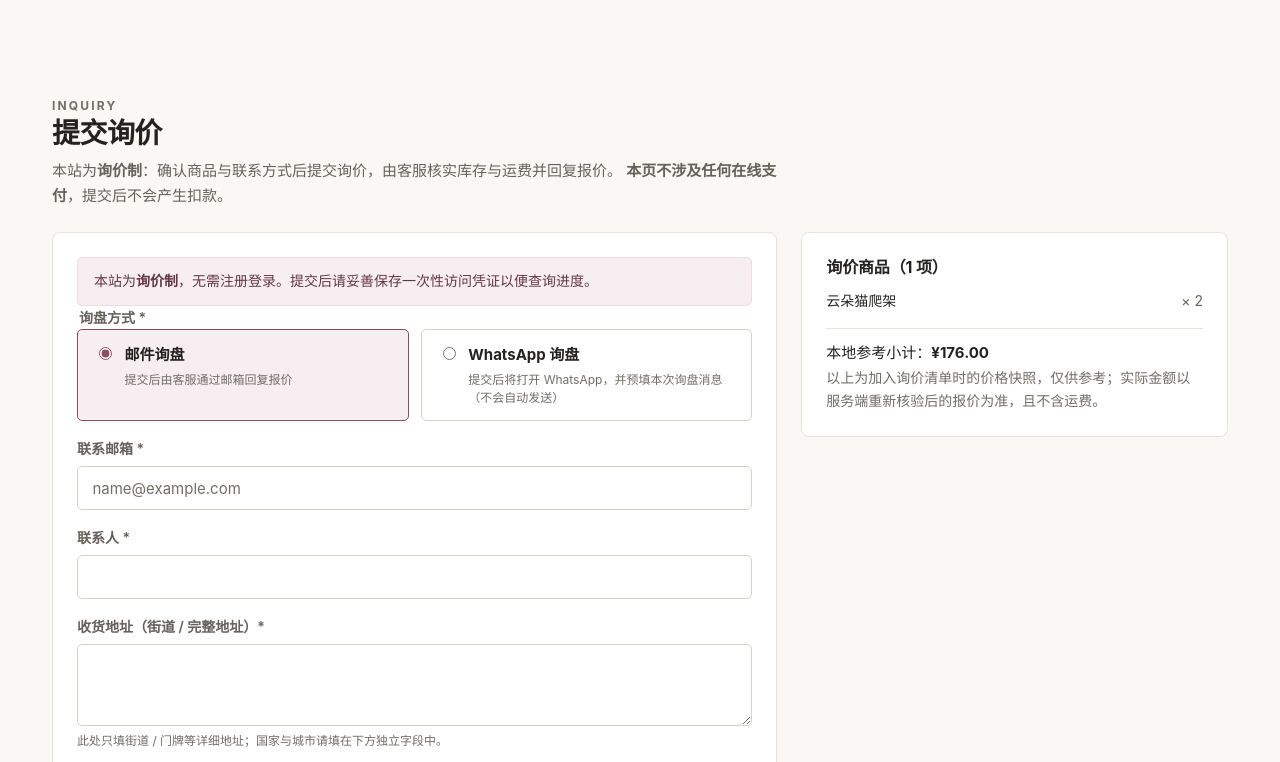
Test: CheckoutPage · G6-2.9（提交失败恢复 / 结果未知区分 / 刷新重进） › 明确失败（500）：提示「确定失败」而非「结果未知」，且购物车与地址全部保留
The image size is (1280, 762).
In the field with id "checkout-email": (415, 488) [77,466,752,510], type "guest@example.com"
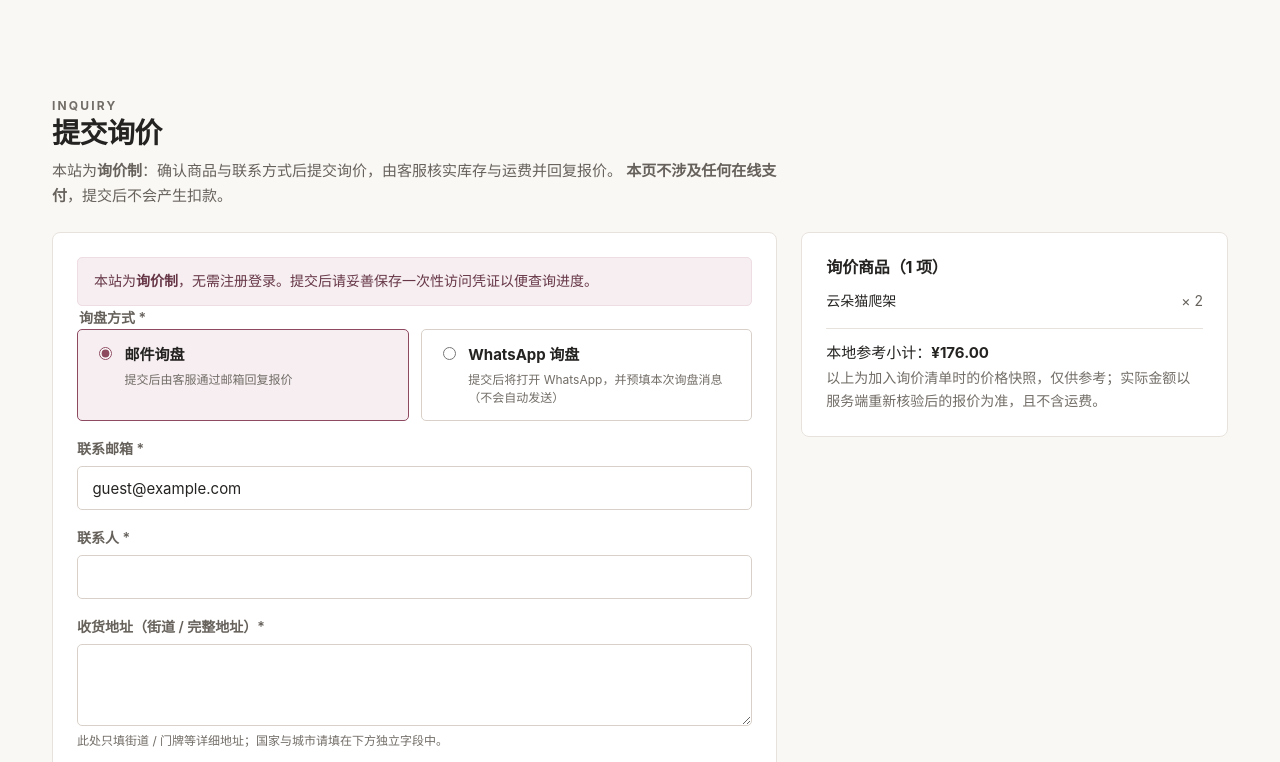
In the field with id "checkout-name": (415, 577) [77,555,752,599], type "张三"
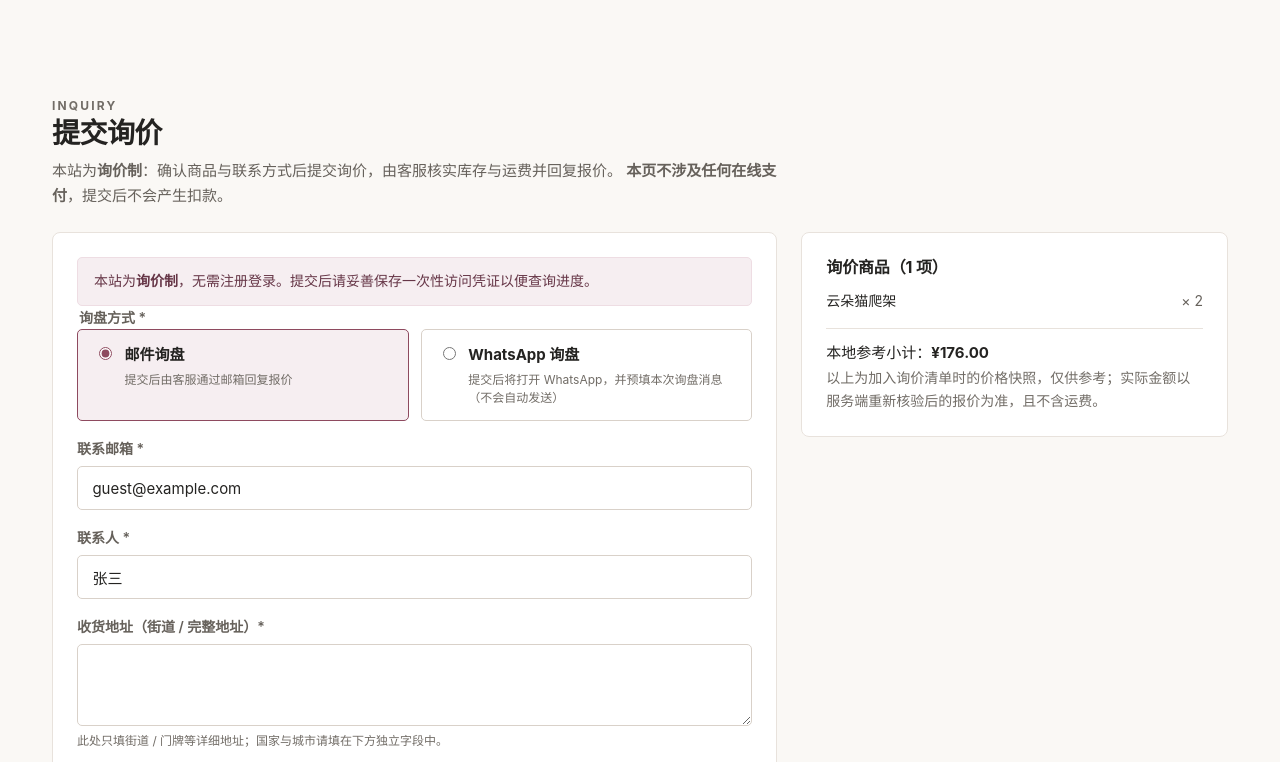
In the text box with id "checkout-address": (415, 685) [77,644,752,726], type "123 Pet Street, Springfield, IL 62704"
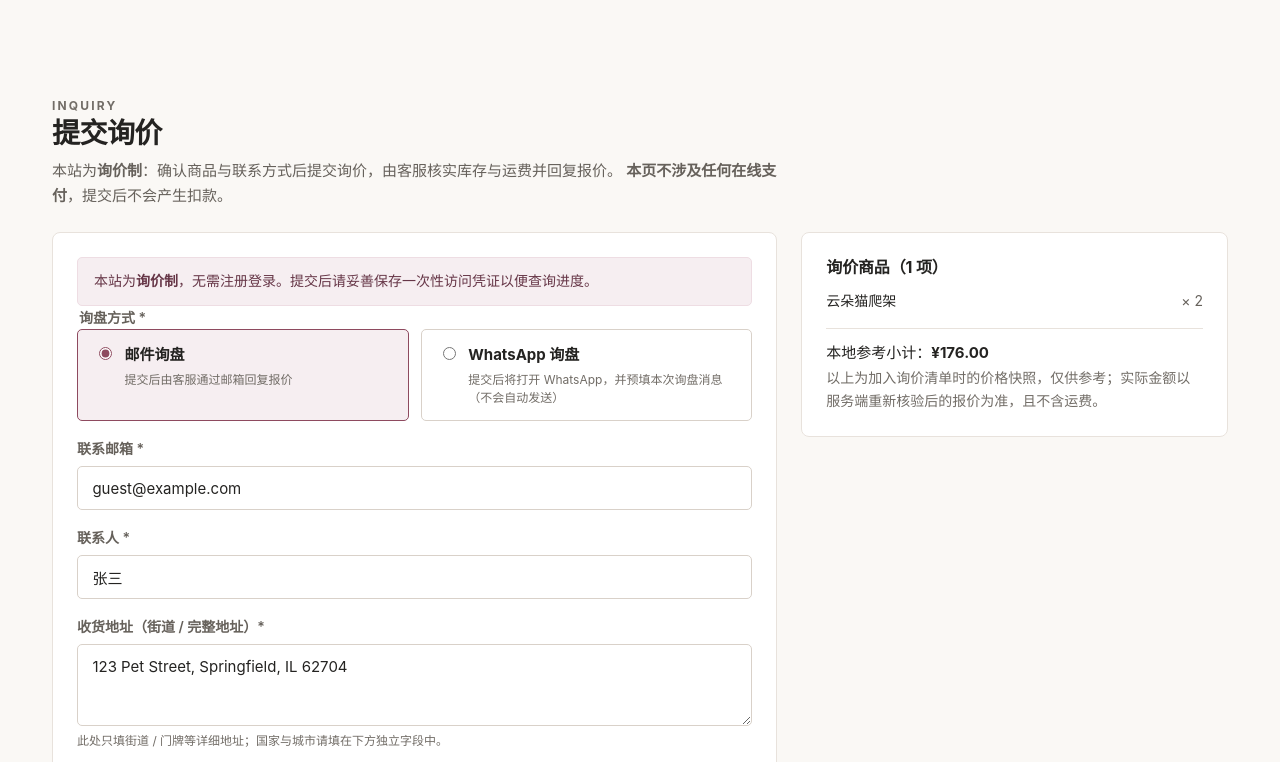
Replace the text in the text box with id "checkout-address" with "北京市朝阳区望京 SOHO T1 2001": (415, 685) [77,644,752,726]
(page scrolled)
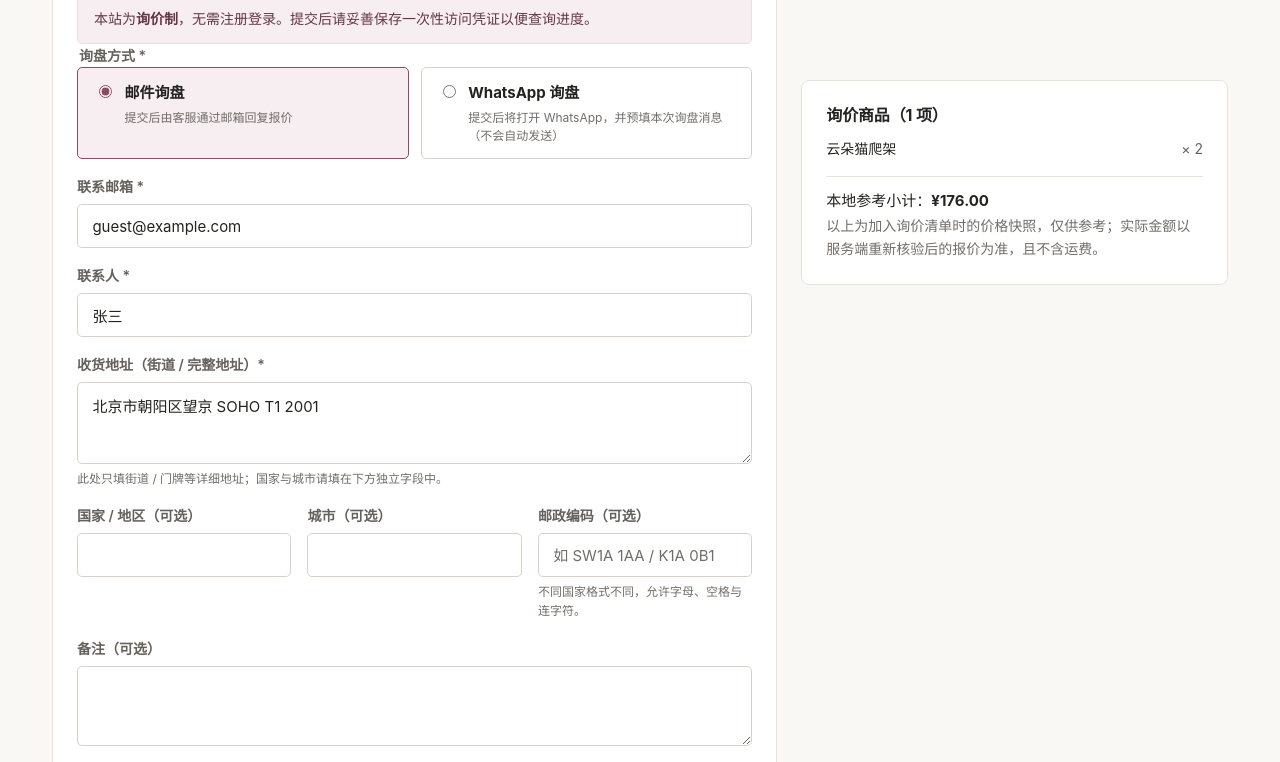
Submit the form
(page scrolled)
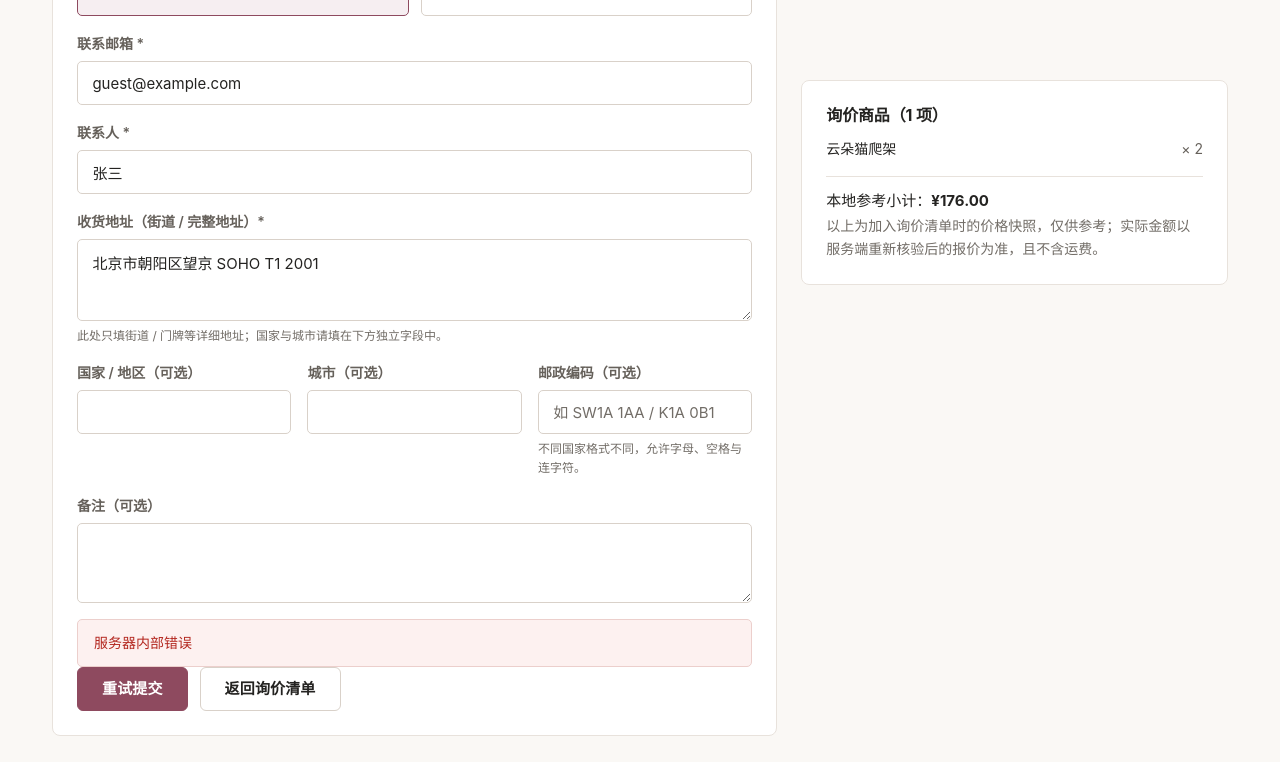
Expected: the message with class "notice--error" reads "服务器内部错误", [94,634,192,651]
Expected: the submit button reads "重试提交", [77,667,188,711]
